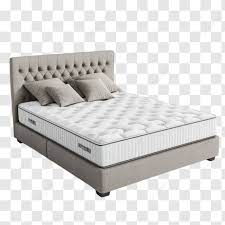bed-matress: (13, 86, 218, 169)
